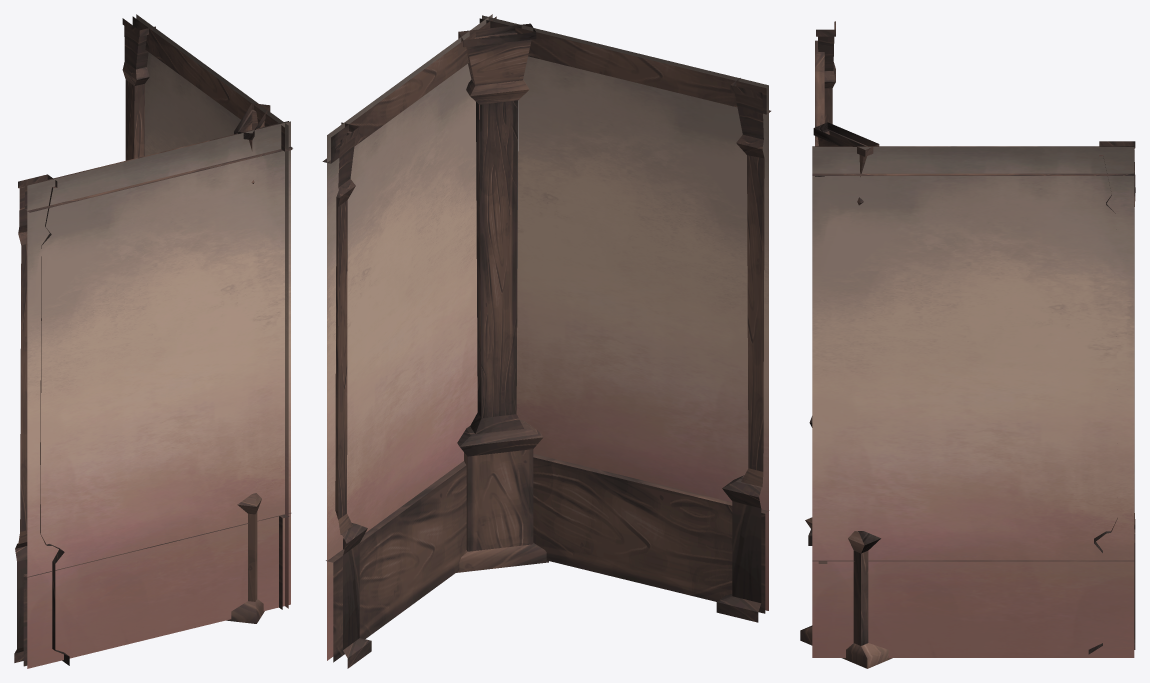
File: Wall_Full_Inner_Corner_LOD1.fbx
The picture shows the model from 3 angles, left to right: view 1: azimuth 30°, elevation 25°; view 2: azimuth 150°, elevation 25°; view 3: azimuth 270°, elevation 25°; orthographic projection. The views are drawn at different scales.
Visible parts, largest first — view 1: Inner_Corner_Wall_LOD1; view 2: Inner_Corner_Wall_LOD1; view 3: Inner_Corner_Wall_LOD1.
Part boxes in pixels (x1,y1,x2,y2): Inner_Corner_Wall_LOD1: (14,14,292,668); Inner_Corner_Wall_LOD1: (322,14,770,668); Inner_Corner_Wall_LOD1: (800,21,1135,668).
Bounding box in the file's own units: 0.0252 × 0.0422 × 0.025.
